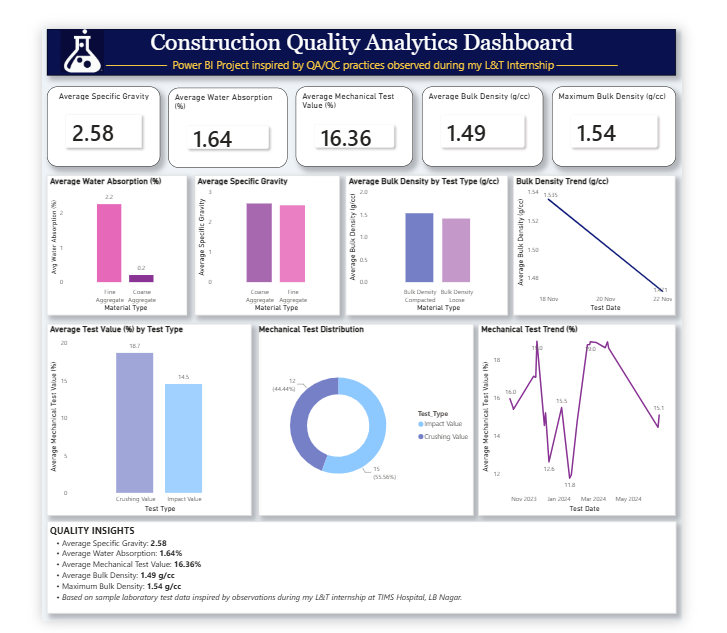

The dashboard page shown, as its layout file describes it:
{"tool":"powerbi","page":{"name":"Construction Quality Analytics Dashboard","canvas":[1280,1183],"ordinal":0},"visuals":[{"type":"cardVisual","title":"Average Specific Gravity","fields":{"Data":["Avg(FA AND CA.Specific_Gravity)"]},"box":[10,116,226,160],"z":0},{"type":"cardVisual","title":"Average Water Absorption (%)","fields":{"Data":["Avg(FA AND CA.Water_Absorption_Pct)"]},"box":[253.3,116.7,238.3,160],"z":1000},{"type":"lineClusteredColumnComboChart","title":"Average Specific Gravity","fields":{"Category":["FA AND CA.Material_Type"],"Y":["Avg(FA AND CA.Specific_Gravity)"]},"box":[305.7,292.9,290,280],"z":2000},{"type":"clusteredColumnChart","title":"Average Water Absorption (%)","fields":{"Category":["FA AND CA.Material_Type"],"Y":["Avg(FA AND CA.Water_Absorption_Pct)"]},"box":[10,293.3,280,280],"z":3000},{"type":"image","box":[47.5,7.5,110,80],"z":4000},{"type":"donutChart","title":"Mechanical Test Distribution","fields":{"Category":["MECHANICAL TESTS.Test_Type"],"Y":["CountNonNull(MECHANICAL TESTS.Record_ID)"]},"box":[431.4,590,430,382.9],"z":5000},{"type":"cardVisual","title":"Average Mechanical Test Value (%)","fields":{"Data":["Avg(MECHANICAL TESTS.Value_Pct)"]},"box":[508,116,234,160],"z":6000},{"type":"columnChart","title":"Average Test Value (%) by Test Type","fields":{"Category":["MECHANICAL TESTS.Test_Type"],"Y":["Avg(MECHANICAL TESTS.Value_Pct)"]},"box":[10,590,408.6,382.9],"z":7000},{"type":"lineChart","title":"Mechanical Test Trend (%)","fields":{"Category":["MECHANICAL TESTS.Date.Variation.Date Hierarchy.Year","MECHANICAL TESTS.Date.Variation.Date Hierarchy.Quarter","MECHANICAL TESTS.Date.Variation.Date Hierarchy.Month","MECHANICAL TESTS.Date.Variation.Date Hierarchy.Day"],"Y":["Avg(MECHANICAL TESTS.Value_Pct)"]},"box":[872.9,590,394.3,382.9],"z":8000},{"type":"cardVisual","title":"Average Bulk Density (g/cc)","fields":{"Data":["VT.Average Bulk Density"]},"box":[760,116,242,160],"z":9000},{"type":"cardVisual","title":"Maximum Bulk Density (g/cc)","fields":{"Data":["VT.Maximum Bulk Density"]},"box":[1020,116,248,160],"z":10000},{"type":"clusteredColumnChart","title":"Average Bulk Density by Test Type (g/cc)","fields":{"Category":["VOLUMETRIC TESTS.Test_Type"],"Y":["Avg(VOLUMETRIC TESTS.Result_g_cc)"]},"box":[607.1,292.9,324.3,280],"z":11000},{"type":"lineChart","title":"Bulk Density Trend (g/cc)","fields":{"Category":["VOLUMETRIC TESTS.Date.Variation.Date Hierarchy.Year","VOLUMETRIC TESTS.Date.Variation.Date Hierarchy.Quarter","VOLUMETRIC TESTS.Date.Variation.Date Hierarchy.Month","VOLUMETRIC TESTS.Date.Variation.Date Hierarchy.Day"],"Y":["Avg(VOLUMETRIC TESTS.Result_g_cc)"]},"box":[941.4,292.9,324,280],"z":12000},{"type":"textbox","box":[10,986,1258,184],"z":13000},{"type":"textbox","title":"Construction Quality Analytics Dashboard","box":[10,0,1257.5,92.5],"z":14000},{"type":"image","box":[22.9,0,115.7,87.1],"z":15001}]}

Visuals, with their boxes on the page's 1280x1183 design canvas (x1, y1, x2, y2). These are canvas units, not pixel positions in the 727x633 screenshot, which may show the page scaled, cropped or inside an application window:
"Average Specific Gravity" cardVisual: (x1=10, y1=116, x2=236, y2=276)
"Average Water Absorption (%)" cardVisual: (x1=253, y1=117, x2=492, y2=277)
"Average Specific Gravity" lineClusteredColumnComboChart: (x1=306, y1=293, x2=596, y2=573)
"Average Water Absorption (%)" clusteredColumnChart: (x1=10, y1=293, x2=290, y2=573)
image: (x1=48, y1=8, x2=158, y2=88)
"Mechanical Test Distribution" donutChart: (x1=431, y1=590, x2=861, y2=973)
"Average Mechanical Test Value (%)" cardVisual: (x1=508, y1=116, x2=742, y2=276)
"Average Test Value (%) by Test Type" columnChart: (x1=10, y1=590, x2=419, y2=973)
"Mechanical Test Trend (%)" lineChart: (x1=873, y1=590, x2=1267, y2=973)
"Average Bulk Density (g/cc)" cardVisual: (x1=760, y1=116, x2=1002, y2=276)
"Maximum Bulk Density (g/cc)" cardVisual: (x1=1020, y1=116, x2=1268, y2=276)
"Average Bulk Density by Test Type (g/cc)" clusteredColumnChart: (x1=607, y1=293, x2=931, y2=573)
"Bulk Density Trend (g/cc)" lineChart: (x1=941, y1=293, x2=1265, y2=573)
textbox: (x1=10, y1=986, x2=1268, y2=1170)
"Construction Quality Analytics Dashboard" textbox: (x1=10, y1=0, x2=1268, y2=92)
image: (x1=23, y1=0, x2=139, y2=87)
